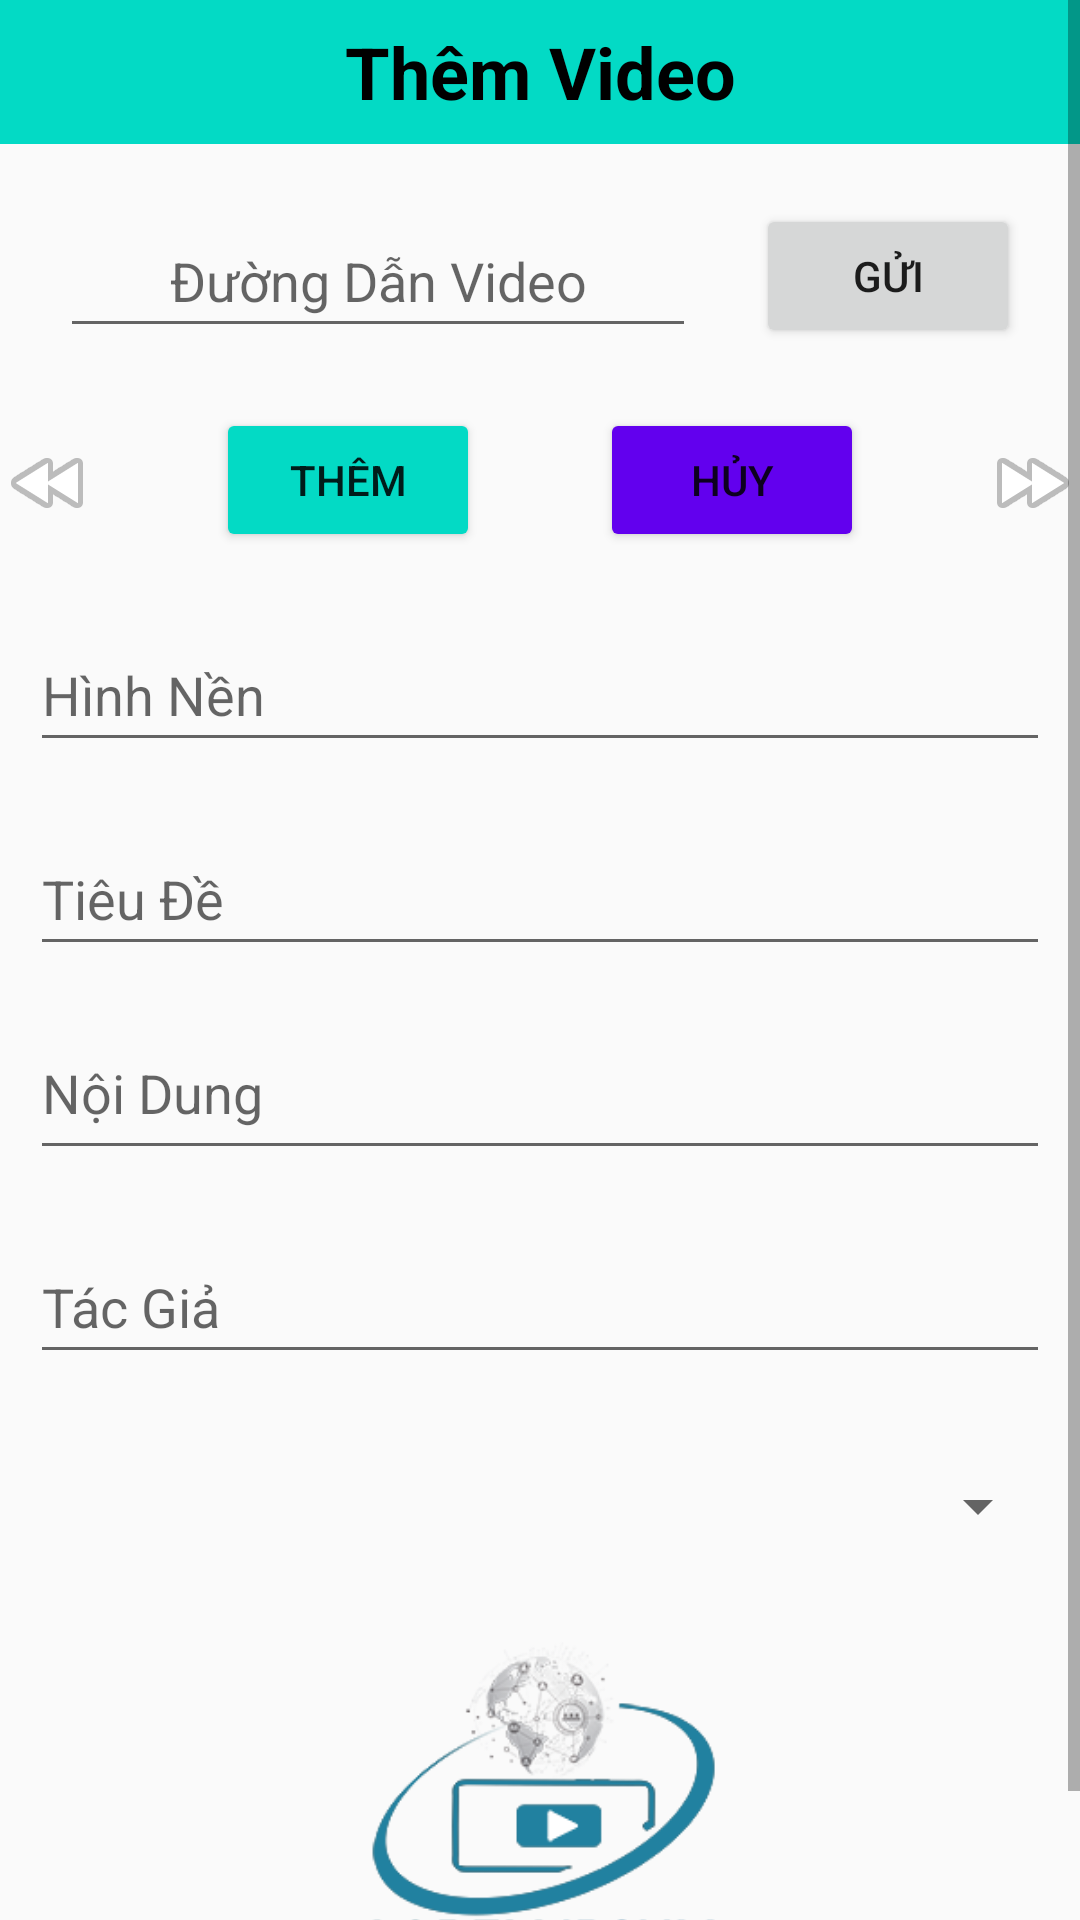

Named icons in this screenshot (1080w x 1920h) and their centers, point (x, y):
rew: point (47, 483)
